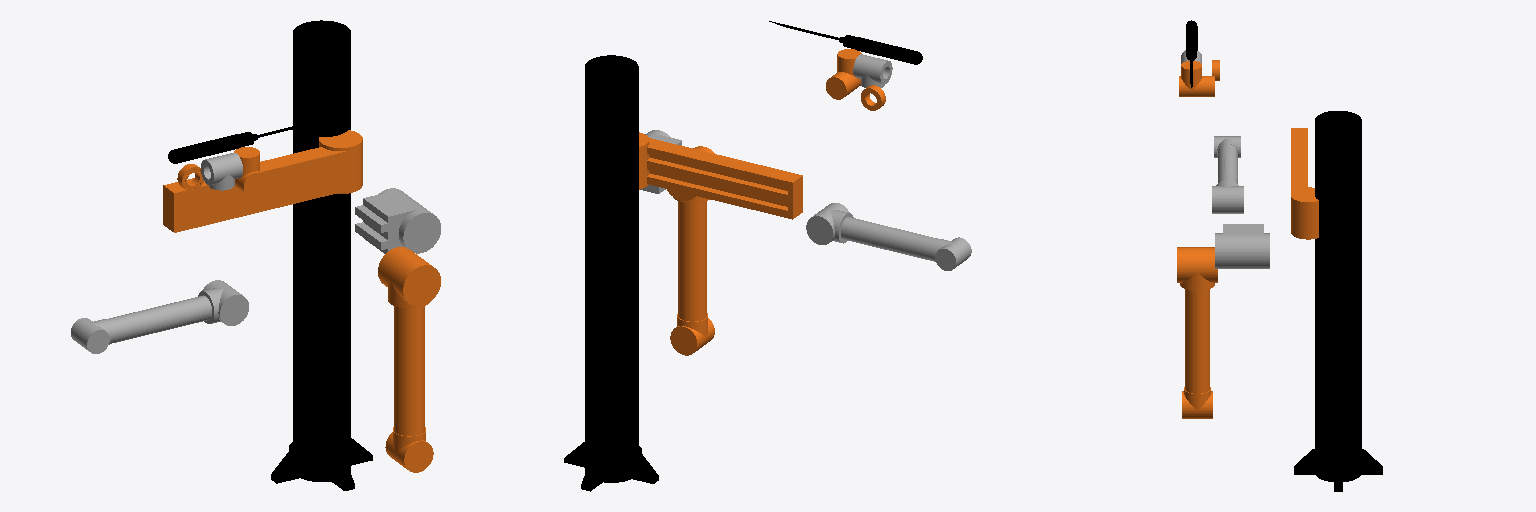
URDF robot description (kr20):
<?xml version="1.0" ?>
<!-- =================================================================================== -->
<!-- |    This document was autogenerated by xacro from kr20.xacro                     | -->
<!-- |    EDITING THIS FILE BY HAND IS NOT RECOMMENDED                                 | -->
<!-- =================================================================================== -->
<robot name="kr20">
  <!-- END - Include -->
  <!-- World frame (for Gazebo) -->
  <link name="world"/>
  <!-- Arm fixed to world frame  -->
  <joint name="world__base" type="fixed">
    <parent link="world"/>
    <child link="base"/>
    <origin rpy="0 0 0" xyz="0 0 0"/>
  </joint>
  <link name="base">
    <inertial>
      <mass value="157.633"/>
      <origin rpy="0 0 0" xyz="0 0 0"/>
      <inertia ixx="13.235" ixy="0" ixz="0" iyy="13.235" iyz="0" izz="9.655"/>
    </inertial>
    <collision>
      <origin rpy="0 0 0" xyz="0 0 0"/>
      <geometry>
        <mesh filename="package://kuka_kr20_description/meshes/base_link.stl" scale="0.001 0.001 0.001"/>
      </geometry>
    </collision>
    <visual>
      <origin rpy="0 0 0" xyz="0 0 0"/>
      <geometry>
        <mesh filename="package://kuka_kr20_description/meshes/base_link.stl" scale="0.001 0.001 0.001"/>
      </geometry>
      <material name="Black"/>
    </visual>
  </link>
  <material name="Orange">
    <color rgba="0.95 0.5 0.15 1.0"/>
  </material>
  <material name="Grey">
    <color rgba="0.7 0.7 0.7 1.0"/>
  </material>
  <material name="Black">
    <color rgba="0.0 0.0 0.0 1.0"/>
  </material>
  <gazebo reference="base">
    <material>Gazebo/Black</material>
  </gazebo>
  <gazebo reference="link01">
    <material>Gazebo/Orange</material>
  </gazebo>
  <gazebo reference="link02">
    <material>Gazebo/Orange</material>
  </gazebo>
  <gazebo reference="link03">
    <material>Gazebo/Orange</material>
  </gazebo>
  <gazebo reference="link04">
    <material>Gazebo/Orange</material>
  </gazebo>
  <gazebo reference="link05">
    <material>Gazebo/Orange</material>
  </gazebo>
  <gazebo reference="link06">
    <material>Gazebo/Orange</material>
  </gazebo>
  <gazebo reference="link07">
    <material>Gazebo/Orange</material>
  </gazebo>
  <gazebo reference="linkef">
    <material>Gazebo/Orange</material>
  </gazebo>
  <!-- BEGIN - Robot description -->
  <joint name="q1" type="revolute">
    <axis xyz="0 0 1"/>
    <limit effort="1000" lower="-3.14" upper="3.14" velocity="0.5"/>
    <origin rpy="1.5708 0 3.1416" xyz="0 0 1.08725"/>
    <parent link="base"/>
    <child link="link01"/>
  </joint>
  <transmission name="trans_q1">
    <type>transmission_interface/SimpleTransmission</type>
    <joint name="q1">
      <hardwareInterface>hardware_interface/PositionJointInterface</hardwareInterface>
    </joint>
    <actuator name="motor_q1">
      <hardwareInterface>hardware_interface/PositionJointInterface</hardwareInterface>
      <mechanicalReduction>100</mechanicalReduction>
    </actuator>
  </transmission>
  <link name="link01">
    <inertial>
      <mass value="157.633"/>
      <origin rpy="0 0 0" xyz="0 0 -0.12725"/>
      <inertia ixx="13.235" ixy="0" ixz="0" iyy="13.235" iyz="0" izz="9.655"/>
    </inertial>
    <collision>
      <origin rpy="0 0 0" xyz="0 0 -0.12725"/>
      <geometry>
        <mesh filename="package://kuka_kr20_description/meshes/Link1.stl" scale="0.001 0.001 0.001"/>
      </geometry>
    </collision>
    <visual>
      <origin rpy="0 0 0" xyz="0 0 -0.12725"/>
      <geometry>
        <mesh filename="package://kuka_kr20_description/meshes/Link1.stl" scale="0.001 0.001 0.001"/>
      </geometry>
      <material name="Orange"/>
    </visual>
  </link>
  <joint name="q2" type="prismatic">
    <axis xyz="0 0 1"/>
    <limit effort="1000" lower="0.13" upper="0.5" velocity="0.5"/>
    <origin rpy="0 3.1416 0" xyz="0 -0.115 0"/>
    <parent link="link01"/>
    <child link="link02"/>
  </joint>
  <transmission name="trans_q2">
    <type>transmission_interface/SimpleTransmission</type>
    <joint name="q2">
      <hardwareInterface>hardware_interface/PositionJointInterface</hardwareInterface>
    </joint>
    <actuator name="motor_q2">
      <hardwareInterface>hardware_interface/PositionJointInterface</hardwareInterface>
      <mechanicalReduction>100</mechanicalReduction>
    </actuator>
  </transmission>
  <link name="link02">
    <inertial>
      <mass value="157.633"/>
      <origin rpy="0 0 0" xyz="0 0.11 0"/>
      <inertia ixx="13.235" ixy="0" ixz="0" iyy="13.235" iyz="0" izz="9.655"/>
    </inertial>
    <collision>
      <origin rpy="0 0 0" xyz="0 0.11 0"/>
      <geometry>
        <mesh filename="package://kuka_kr20_description/meshes/Link2.stl" scale="0.001 0.001 0.001"/>
      </geometry>
    </collision>
    <visual>
      <origin rpy="0 0 0" xyz="0 0.11 0"/>
      <geometry>
        <mesh filename="package://kuka_kr20_description/meshes/Link2.stl" scale="0.001 0.001 0.001"/>
      </geometry>
      <material name="Grey"/>
    </visual>
  </link>
  <joint name="q3" type="revolute">
    <axis xyz="0 0 1"/>
    <limit effort="1000" lower="-2.15" upper="2.15" velocity="0.5"/>
    <origin rpy="0 0 -1.5708" xyz="0 0 0.2835"/>
    <parent link="link02"/>
    <child link="link03"/>
  </joint>
  <transmission name="trans_q3">
    <type>transmission_interface/SimpleTransmission</type>
    <joint name="q3">
      <hardwareInterface>hardware_interface/PositionJointInterface</hardwareInterface>
    </joint>
    <actuator name="motor_q3">
      <hardwareInterface>hardware_interface/PositionJointInterface</hardwareInterface>
      <mechanicalReduction>100</mechanicalReduction>
    </actuator>
  </transmission>
  <link name="link03">
    <inertial>
      <mass value="157.633"/>
      <origin rpy="0 0 0" xyz="0 0 -0.08675"/>
      <inertia ixx="13.235" ixy="0" ixz="0" iyy="13.235" iyz="0" izz="9.655"/>
    </inertial>
    <collision>
      <origin rpy="0 0 0" xyz="0 0 -0.08675"/>
      <geometry>
        <mesh filename="package://kuka_kr20_description/meshes/Link3.stl" scale="0.001 0.001 0.001"/>
      </geometry>
    </collision>
    <visual>
      <origin rpy="0 0 0" xyz="0 0 -0.08675"/>
      <geometry>
        <mesh filename="package://kuka_kr20_description/meshes/Link3.stl" scale="0.001 0.001 0.001"/>
      </geometry>
      <material name="Orange"/>
    </visual>
  </link>
  <joint name="q4" type="revolute">
    <axis xyz="0 0 1"/>
    <limit effort="1000" lower="-3.14" upper="3.14" velocity="0.5"/>
    <origin rpy="0 0 -1.5708" xyz="0 -0.656 -0.13225"/>
    <parent link="link03"/>
    <child link="link04"/>
  </joint>
  <transmission name="trans_q4">
    <type>transmission_interface/SimpleTransmission</type>
    <joint name="q4">
      <hardwareInterface>hardware_interface/PositionJointInterface</hardwareInterface>
    </joint>
    <actuator name="motor_q4">
      <hardwareInterface>hardware_interface/PositionJointInterface</hardwareInterface>
      <mechanicalReduction>100</mechanicalReduction>
    </actuator>
  </transmission>
  <link name="link04">
    <inertial>
      <mass value="157.633"/>
      <origin rpy="0 0 0" xyz="0 0 -0.06425"/>
      <inertia ixx="13.235" ixy="0" ixz="0" iyy="13.235" iyz="0" izz="9.655"/>
    </inertial>
    <collision>
      <origin rpy="0 0 0" xyz="0 0 -0.06425"/>
      <geometry>
        <mesh filename="package://kuka_kr20_description/meshes/Link4.stl" scale="0.001 0.001 0.001"/>
      </geometry>
    </collision>
    <visual>
      <origin rpy="0 0 0" xyz="0 0 -0.06425"/>
      <geometry>
        <mesh filename="package://kuka_kr20_description/meshes/Link4.stl" scale="0.001 0.001 0.001"/>
      </geometry>
      <material name="Grey"/>
    </visual>
  </link>
  <joint name="q5" type="revolute">
    <axis xyz="0 0 1"/>
    <limit effort="1000" lower="-3.14" upper="3.14" velocity="0.5"/>
    <origin rpy="0 -1.5708 1.5708" xyz="0 -0.531 0.1565"/>
    <parent link="link04"/>
    <child link="link05"/>
  </joint>
  <transmission name="trans_q5">
    <type>transmission_interface/SimpleTransmission</type>
    <joint name="q5">
      <hardwareInterface>hardware_interface/PositionJointInterface</hardwareInterface>
    </joint>
    <actuator name="motor_q5">
      <hardwareInterface>hardware_interface/PositionJointInterface</hardwareInterface>
      <mechanicalReduction>100</mechanicalReduction>
    </actuator>
  </transmission>
  <link name="link05">
    <inertial>
      <mass value="157.633"/>
      <origin rpy="0 0 0" xyz="0 0 0"/>
      <inertia ixx="13.235" ixy="0" ixz="0" iyy="13.235" iyz="0" izz="9.655"/>
    </inertial>
    <collision>
      <origin rpy="0 0 0" xyz="0 0 0"/>
      <geometry>
        <mesh filename="package://kuka_kr20_description/meshes/Link5.stl" scale="0.001 0.001 0.001"/>
      </geometry>
    </collision>
    <visual>
      <origin rpy="0 0 0" xyz="0 0 0"/>
      <geometry>
        <mesh filename="package://kuka_kr20_description/meshes/Link5.stl" scale="0.001 0.001 0.001"/>
      </geometry>
      <material name="Orange"/>
    </visual>
  </link>
  <joint name="q6" type="revolute">
    <axis xyz="0 0 1"/>
    <limit effort="1000" lower="-3.14" upper="3.14" velocity="0.5"/>
    <origin rpy="1.5708 -1.5708 0" xyz="0 -0.1605 0"/>
    <parent link="link05"/>
    <child link="link06"/>
  </joint>
  <transmission name="trans_q6">
    <type>transmission_interface/SimpleTransmission</type>
    <joint name="q6">
      <hardwareInterface>hardware_interface/PositionJointInterface</hardwareInterface>
    </joint>
    <actuator name="motor_q6">
      <hardwareInterface>hardware_interface/PositionJointInterface</hardwareInterface>
      <mechanicalReduction>100</mechanicalReduction>
    </actuator>
  </transmission>
  <link name="link06">
    <inertial>
      <mass value="157.633"/>
      <origin rpy="0 0 0" xyz="0 0 -0.0605"/>
      <inertia ixx="13.235" ixy="0" ixz="0" iyy="13.235" iyz="0" izz="9.655"/>
    </inertial>
    <collision>
      <origin rpy="0 0 0" xyz="0 0 -0.0605"/>
      <geometry>
        <mesh filename="package://kuka_kr20_description/meshes/Link6.stl" scale="0.001 0.001 0.001"/>
      </geometry>
    </collision>
    <visual>
      <origin rpy="0 0 0" xyz="0 0 -0.0605"/>
      <geometry>
        <mesh filename="package://kuka_kr20_description/meshes/Link6.stl" scale="0.001 0.001 0.001"/>
      </geometry>
      <material name="Grey"/>
    </visual>
  </link>
  <joint name="q7" type="revolute">
    <axis xyz="0 0 1"/>
    <limit effort="1000" lower="-3.14" upper="3.14" velocity="0.5"/>
    <origin rpy="-1.5708 0 0" xyz="0 0 0"/>
    <parent link="link06"/>
    <child link="link07"/>
  </joint>
  <transmission name="trans_q7">
    <type>transmission_interface/SimpleTransmission</type>
    <joint name="q7">
      <hardwareInterface>hardware_interface/PositionJointInterface</hardwareInterface>
    </joint>
    <actuator name="motor_q7">
      <hardwareInterface>hardware_interface/PositionJointInterface</hardwareInterface>
      <mechanicalReduction>100</mechanicalReduction>
    </actuator>
  </transmission>
  <link name="link07">
    <inertial>
      <mass value="157.633"/>
      <origin rpy="0 0 0" xyz="0 0 0.088"/>
      <inertia ixx="13.235" ixy="0" ixz="0" iyy="13.235" iyz="0" izz="9.655"/>
    </inertial>
    <collision>
      <origin rpy="0 0 0" xyz="0 0 0.088"/>
      <geometry>
        <mesh filename="package://kuka_kr20_description/meshes/Link7.stl" scale="0.001 0.001 0.001"/>
      </geometry>
    </collision>
    <visual>
      <origin rpy="0 0 0" xyz="0 0 0.088"/>
      <geometry>
        <mesh filename="package://kuka_kr20_description/meshes/Link7.stl" scale="0.001 0.001 0.001"/>
      </geometry>
      <material name="Orange"/>
    </visual>
  </link>
  <joint name="q8" type="prismatic">
    <axis xyz="0 0 1"/>
    <limit effort="1000" lower="-0.08" upper="0.08" velocity="0.5"/>
    <origin rpy="0 -1.5708 0" xyz="0 0 0"/>
    <parent link="link07"/>
    <child link="linkef"/>
  </joint>
  <transmission name="trans_q8">
    <type>transmission_interface/SimpleTransmission</type>
    <joint name="q8">
      <hardwareInterface>hardware_interface/PositionJointInterface</hardwareInterface>
    </joint>
    <actuator name="motor_q8">
      <hardwareInterface>hardware_interface/PositionJointInterface</hardwareInterface>
      <mechanicalReduction>100</mechanicalReduction>
    </actuator>
  </transmission>
  <link name="linkef">
    <inertial>
      <mass value="157.633"/>
      <origin rpy="0 0 0" xyz="0 0 -0.15"/>
      <inertia ixx="13.235" ixy="0" ixz="0" iyy="13.235" iyz="0" izz="9.655"/>
    </inertial>
    <collision>
      <origin rpy="0 0 0" xyz="0 0 -0.15"/>
      <geometry>
        <mesh filename="package://kuka_kr20_description/meshes/Link_EF.stl" scale="0.001 0.001 0.001"/>
      </geometry>
    </collision>
    <visual>
      <origin rpy="0 0 0" xyz="0 0 -0.15"/>
      <geometry>
        <mesh filename="package://kuka_kr20_description/meshes/Link_EF.stl" scale="0.001 0.001 0.001"/>
      </geometry>
      <material name="Black"/>
    </visual>
  </link>
</robot>

--- Facts derived from the render (not from the file) ---
The picture shows the robot from 3 angles, left to right: view 1: azimuth 30°, elevation 25°; view 2: azimuth 150°, elevation 25°; view 3: azimuth 270°, elevation 25°; orthographic projection.
Model kr20 with 10 links and 9 joints (6 revolute, 2 prismatic, 1 fixed), rooted at world, posed joints at zero except 1 at the middle of their limits (q2 = 0.315).
Links seen in each view (by area): view 1: base, link01, link03, link04, link02, linkef, link06, link05; view 2: base, link01, link03, link04, linkef, link05, link06; view 3: base, link03, link01, link02, link04, link05.
Link boxes in pixels (x1,y1,x2,y2): base: (271, 20, 372, 490); link01: (163, 130, 362, 232); link03: (378, 247, 440, 472); link04: (71, 280, 248, 353); link02: (355, 188, 440, 253); linkef: (168, 116, 334, 163); link06: (201, 153, 242, 190); link05: (234, 147, 266, 196); base: (564, 55, 658, 491); link01: (639, 132, 802, 219); link03: (667, 146, 714, 355); link04: (806, 203, 971, 270); linkef: (769, 21, 922, 64); link05: (826, 49, 861, 99); link06: (853, 54, 892, 87); base: (1294, 111, 1382, 491); link03: (1177, 247, 1217, 418); link01: (1291, 128, 1318, 239); link02: (1215, 224, 1269, 268); link04: (1212, 136, 1243, 213); link05: (1179, 61, 1214, 96).
Size in the robot's own frame: 1.42 by 0.8753 by 1.68 metres.
Meshes: 9 distinct files referenced, 9 mesh visuals loaded (9 binary STL).